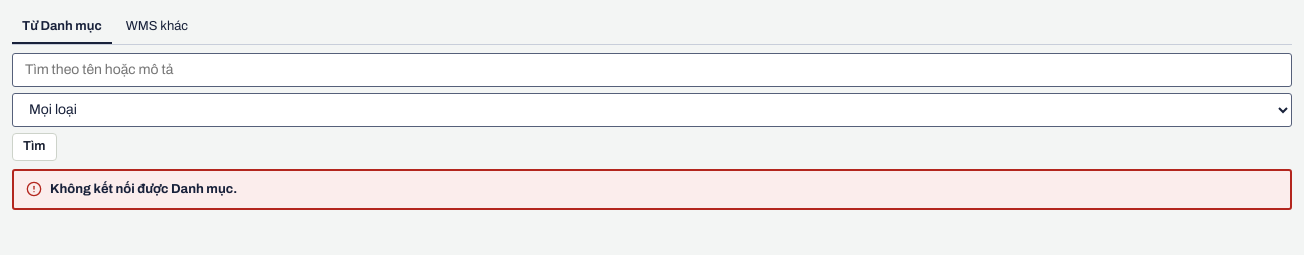
Scenario: AddData › a catalogue that cannot be reached is reported and the WMS tab still works
Click the tab "WMS khác". click: point(157, 28)
box: [116,12,198,44]
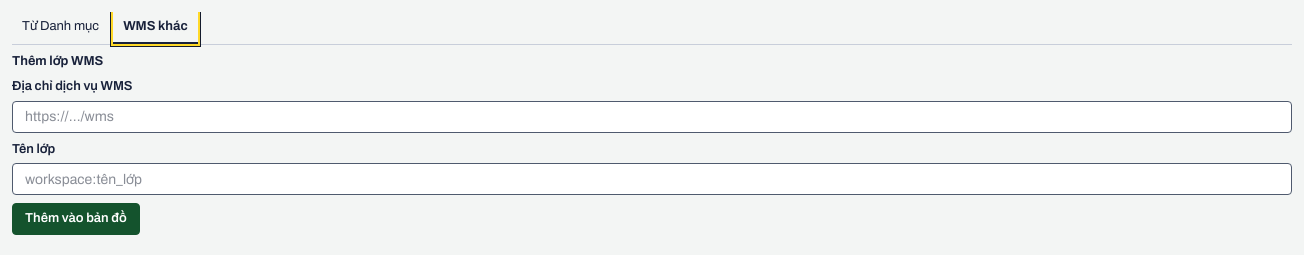
Type "https://example.com/wms" into the field labelled "Địa chỉ dịch vụ WMS". click: point(652, 117)
box: [12,101,1292,133]
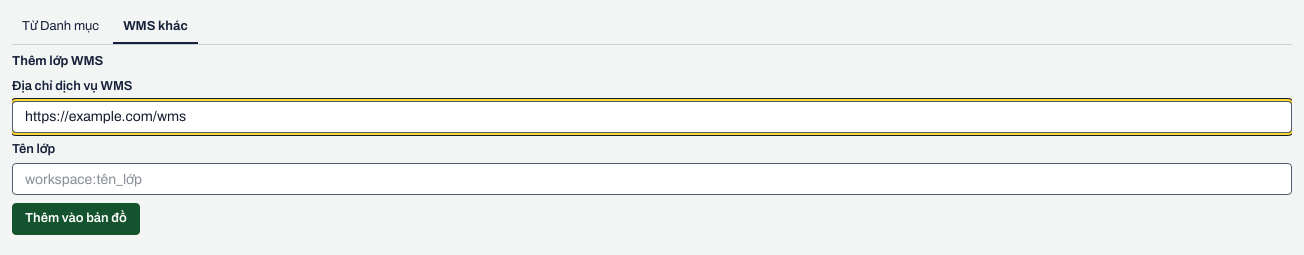
Type "ws:rivers" into the field labelled "Tên lớp". click: point(652, 179)
box: [12,163,1292,195]
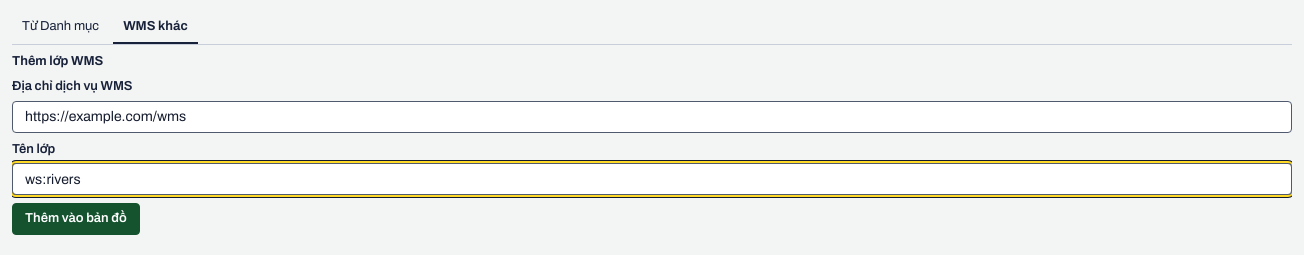
Click the button "Thêm vào bản đồ". click: point(76, 219)
box: [12,203,140,235]
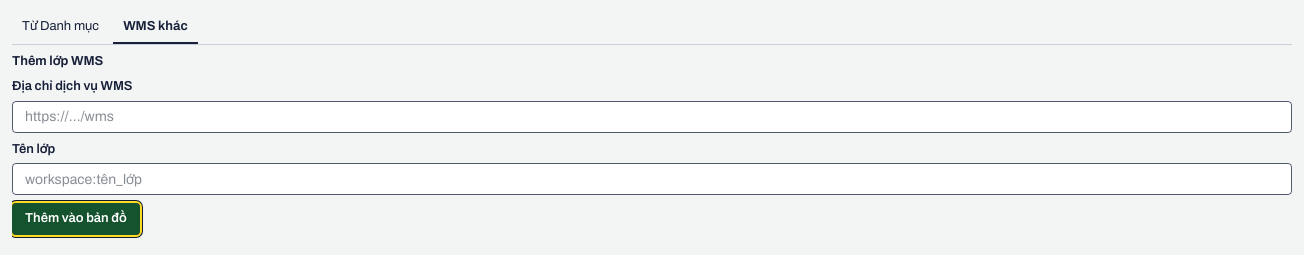
Click the tab "Từ Danh mục". click: point(61, 28)
box: [12,12,109,44]
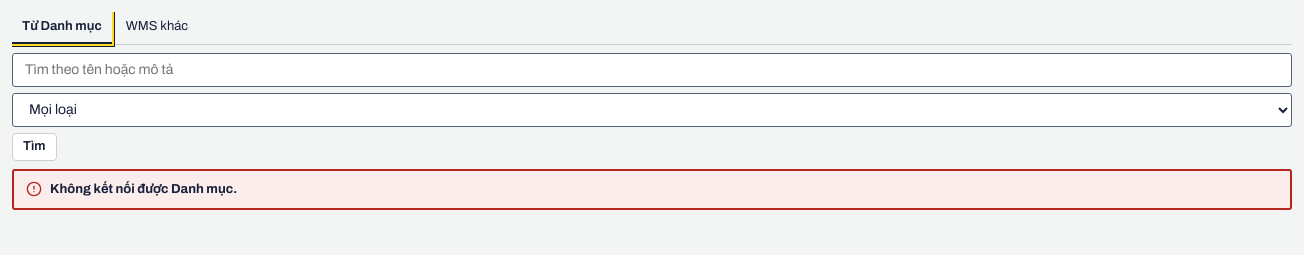
Expected: the text "Không kết nối được Danh mục." is shown, [50,182,237,196]
